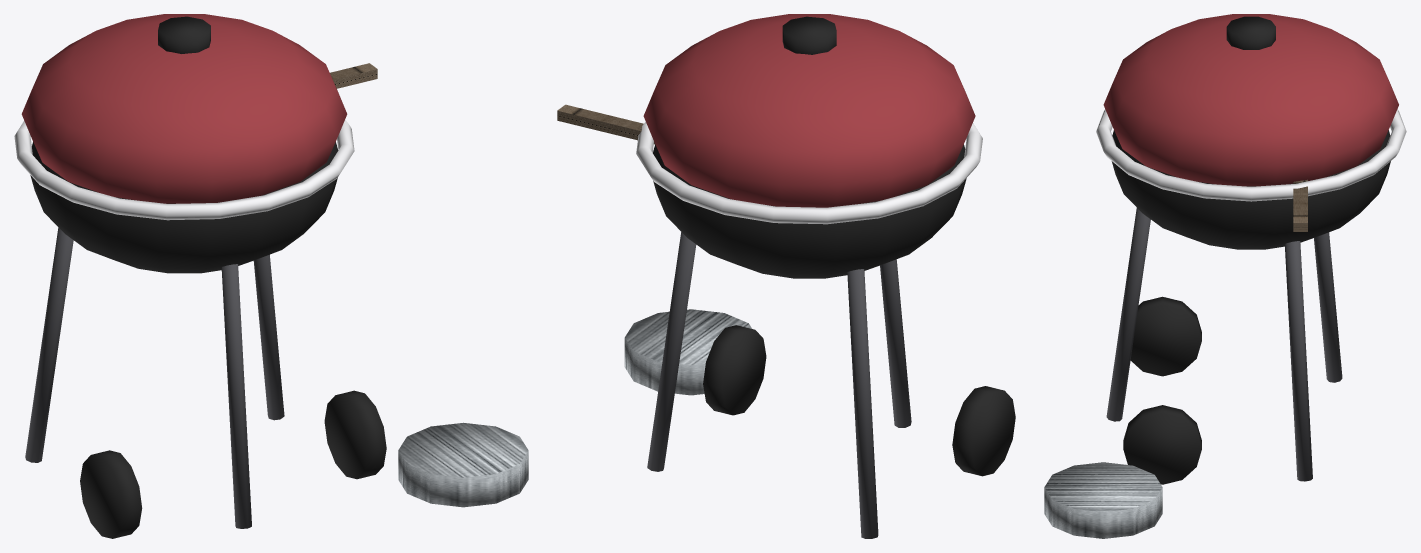
The model's file is WK_FUR_KettleGrill.glb.
3 views of the same model, side by side, from view 1: azimuth 30°, elevation 25°; view 2: azimuth 150°, elevation 25°; view 3: azimuth 270°, elevation 25° (orthographic). The views are drawn at different scales.
Parts seen in each view (by area): view 1: WK_FUR_KettleGrill_P02, WK_FUR_KettleGrill_P01, WK_FUR_KettleGrill_P11, WK_FUR_KettleGrill_P04, WK_FUR_KettleGrill_P07, WK_FUR_KettleGrill_P09, WK_FUR_KettleGrill_P08, WK_FUR_KettleGrill_P06, WK_FUR_KettleGrill_P05, WK_FUR_KettleGrill_P03, WK_FUR_KettleGrill_P10; view 2: WK_FUR_KettleGrill_P02, WK_FUR_KettleGrill_P01, WK_FUR_KettleGrill_P04, WK_FUR_KettleGrill_P11, WK_FUR_KettleGrill_P06, WK_FUR_KettleGrill_P09, WK_FUR_KettleGrill_P08, WK_FUR_KettleGrill_P05, WK_FUR_KettleGrill_P07, WK_FUR_KettleGrill_P03, WK_FUR_KettleGrill_P10; view 3: WK_FUR_KettleGrill_P02, WK_FUR_KettleGrill_P01, WK_FUR_KettleGrill_P11, WK_FUR_KettleGrill_P04, WK_FUR_KettleGrill_P09, WK_FUR_KettleGrill_P08, WK_FUR_KettleGrill_P05, WK_FUR_KettleGrill_P07, WK_FUR_KettleGrill_P06, WK_FUR_KettleGrill_P03, WK_FUR_KettleGrill_P10.
Part boxes in pixels (x1=…): WK_FUR_KettleGrill_P02: x1=21, y1=14, x2=347, y2=203; WK_FUR_KettleGrill_P01: x1=30, y1=142, x2=338, y2=273; WK_FUR_KettleGrill_P11: x1=398, y1=422, x2=528, y2=507; WK_FUR_KettleGrill_P04: x1=14, y1=120, x2=354, y2=220; WK_FUR_KettleGrill_P07: x1=221, y1=264, x2=251, y2=528; WK_FUR_KettleGrill_P09: x1=324, y1=390, x2=386, y2=479; WK_FUR_KettleGrill_P08: x1=80, y1=450, x2=142, y2=538; WK_FUR_KettleGrill_P06: x1=25, y1=227, x2=73, y2=462; WK_FUR_KettleGrill_P05: x1=253, y1=254, x2=284, y2=420; WK_FUR_KettleGrill_P03: x1=158, y1=16, x2=210, y2=53; WK_FUR_KettleGrill_P10: x1=330, y1=63, x2=377, y2=88; WK_FUR_KettleGrill_P02: x1=643, y1=14, x2=975, y2=207; WK_FUR_KettleGrill_P01: x1=653, y1=144, x2=966, y2=278; WK_FUR_KettleGrill_P04: x1=636, y1=122, x2=982, y2=224; WK_FUR_KettleGrill_P11: x1=624, y1=309, x2=751, y2=395; WK_FUR_KettleGrill_P06: x1=847, y1=269, x2=878, y2=538; WK_FUR_KettleGrill_P09: x1=703, y1=325, x2=766, y2=415; WK_FUR_KettleGrill_P08: x1=952, y1=386, x2=1015, y2=476; WK_FUR_KettleGrill_P05: x1=647, y1=232, x2=696, y2=471; WK_FUR_KettleGrill_P07: x1=880, y1=259, x2=911, y2=427; WK_FUR_KettleGrill_P03: x1=782, y1=16, x2=836, y2=54; WK_FUR_KettleGrill_P10: x1=557, y1=104, x2=655, y2=144; WK_FUR_KettleGrill_P02: x1=1103, y1=14, x2=1398, y2=186; WK_FUR_KettleGrill_P01: x1=1111, y1=130, x2=1390, y2=249; WK_FUR_KettleGrill_P11: x1=1044, y1=462, x2=1162, y2=538; WK_FUR_KettleGrill_P04: x1=1096, y1=109, x2=1406, y2=201; WK_FUR_KettleGrill_P09: x1=1123, y1=405, x2=1201, y2=484; WK_FUR_KettleGrill_P08: x1=1130, y1=296, x2=1201, y2=376; WK_FUR_KettleGrill_P05: x1=1284, y1=241, x2=1312, y2=481; WK_FUR_KettleGrill_P07: x1=1106, y1=207, x2=1150, y2=421; WK_FUR_KettleGrill_P06: x1=1314, y1=232, x2=1342, y2=382; WK_FUR_KettleGrill_P03: x1=1226, y1=16, x2=1275, y2=49; WK_FUR_KettleGrill_P10: x1=1293, y1=179, x2=1307, y2=231.
Bounding box in the file's own units: 0.855 × 0.895 × 0.735.
Materials: 6 (2 with a texture image).
